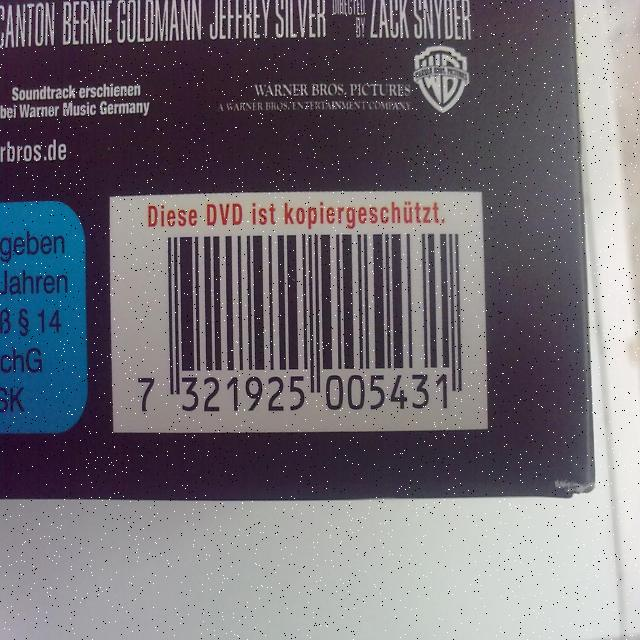barcode: (110, 192, 488, 433)
